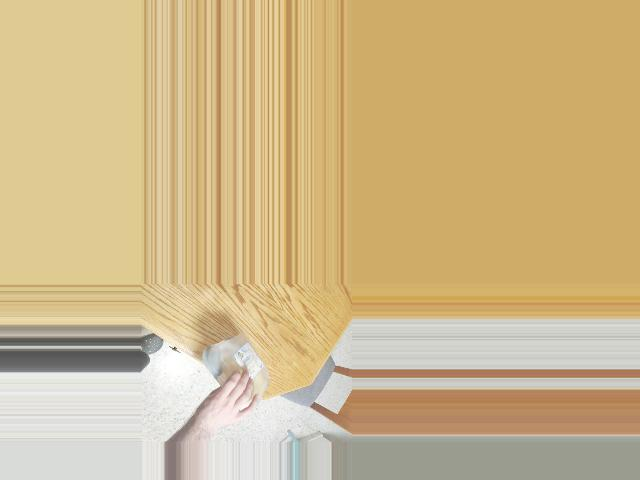cheese: (206, 336, 271, 415)
